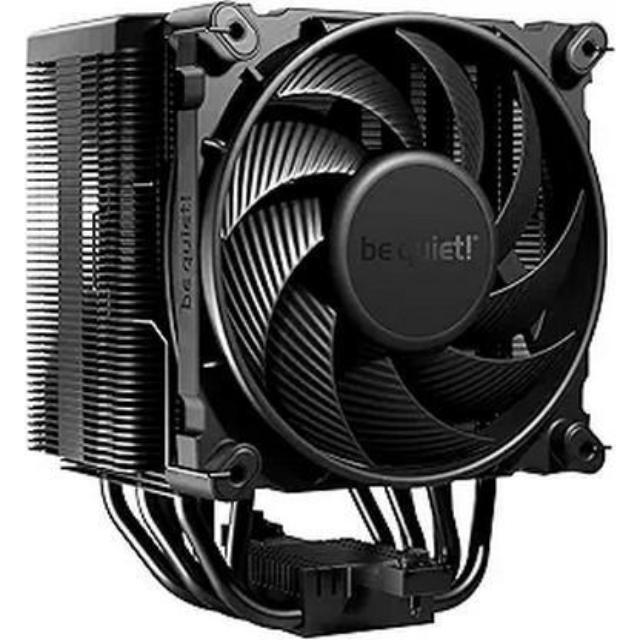CPU_Fan: (25, 0, 608, 628)
